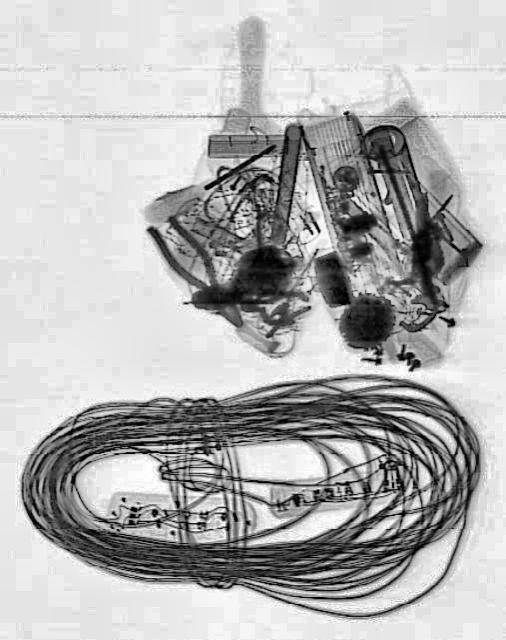Pliers: (143, 204, 254, 338)
